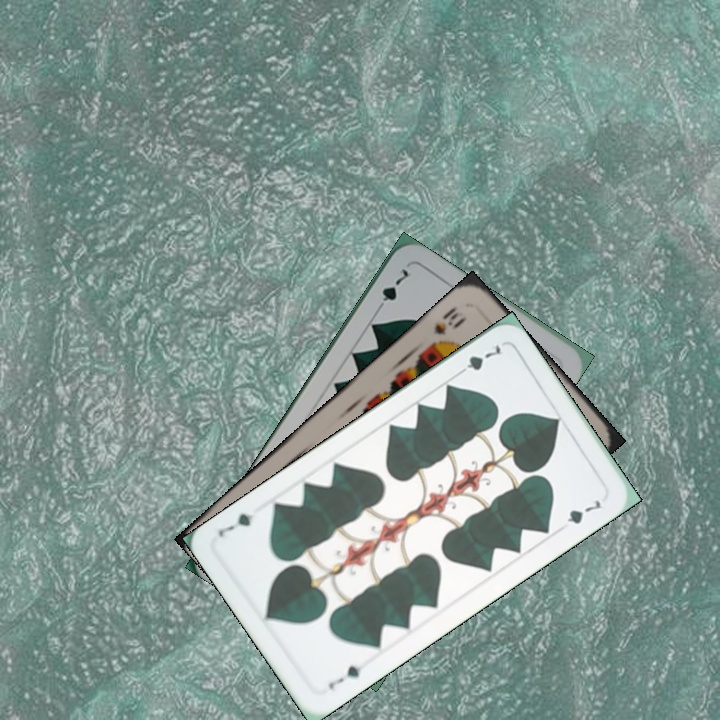G7: (371, 264, 412, 315), (452, 341, 504, 379), (324, 659, 370, 692)
S10: (429, 303, 469, 338)
